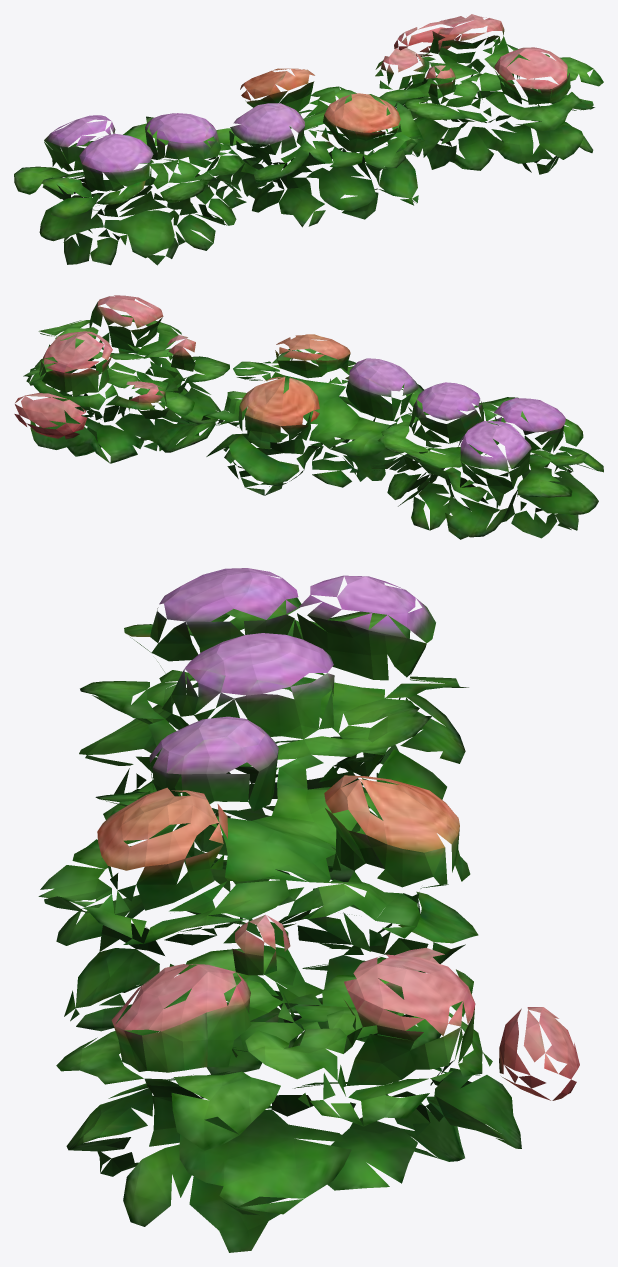
The model's file is flowers_wild.glb.
3 views of the same model, one above another, from view 1: azimuth 30°, elevation 25°; view 2: azimuth 150°, elevation 25°; view 3: azimuth 270°, elevation 25° (orthographic). The views are drawn at different scales.
Visible parts, largest first — view 1: world; view 2: world; view 3: world.
Part boxes in pixels (box(x1,y1,x2,y2)): world: box(14, 14, 603, 265); world: box(14, 295, 603, 539); world: box(38, 568, 579, 1252).
Size of the model in its own units: 0.997 by 0.1979 by 0.4242.
Materials: 1 (1 with a texture image).
